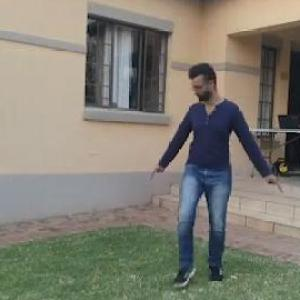land: (128, 52, 276, 299)
